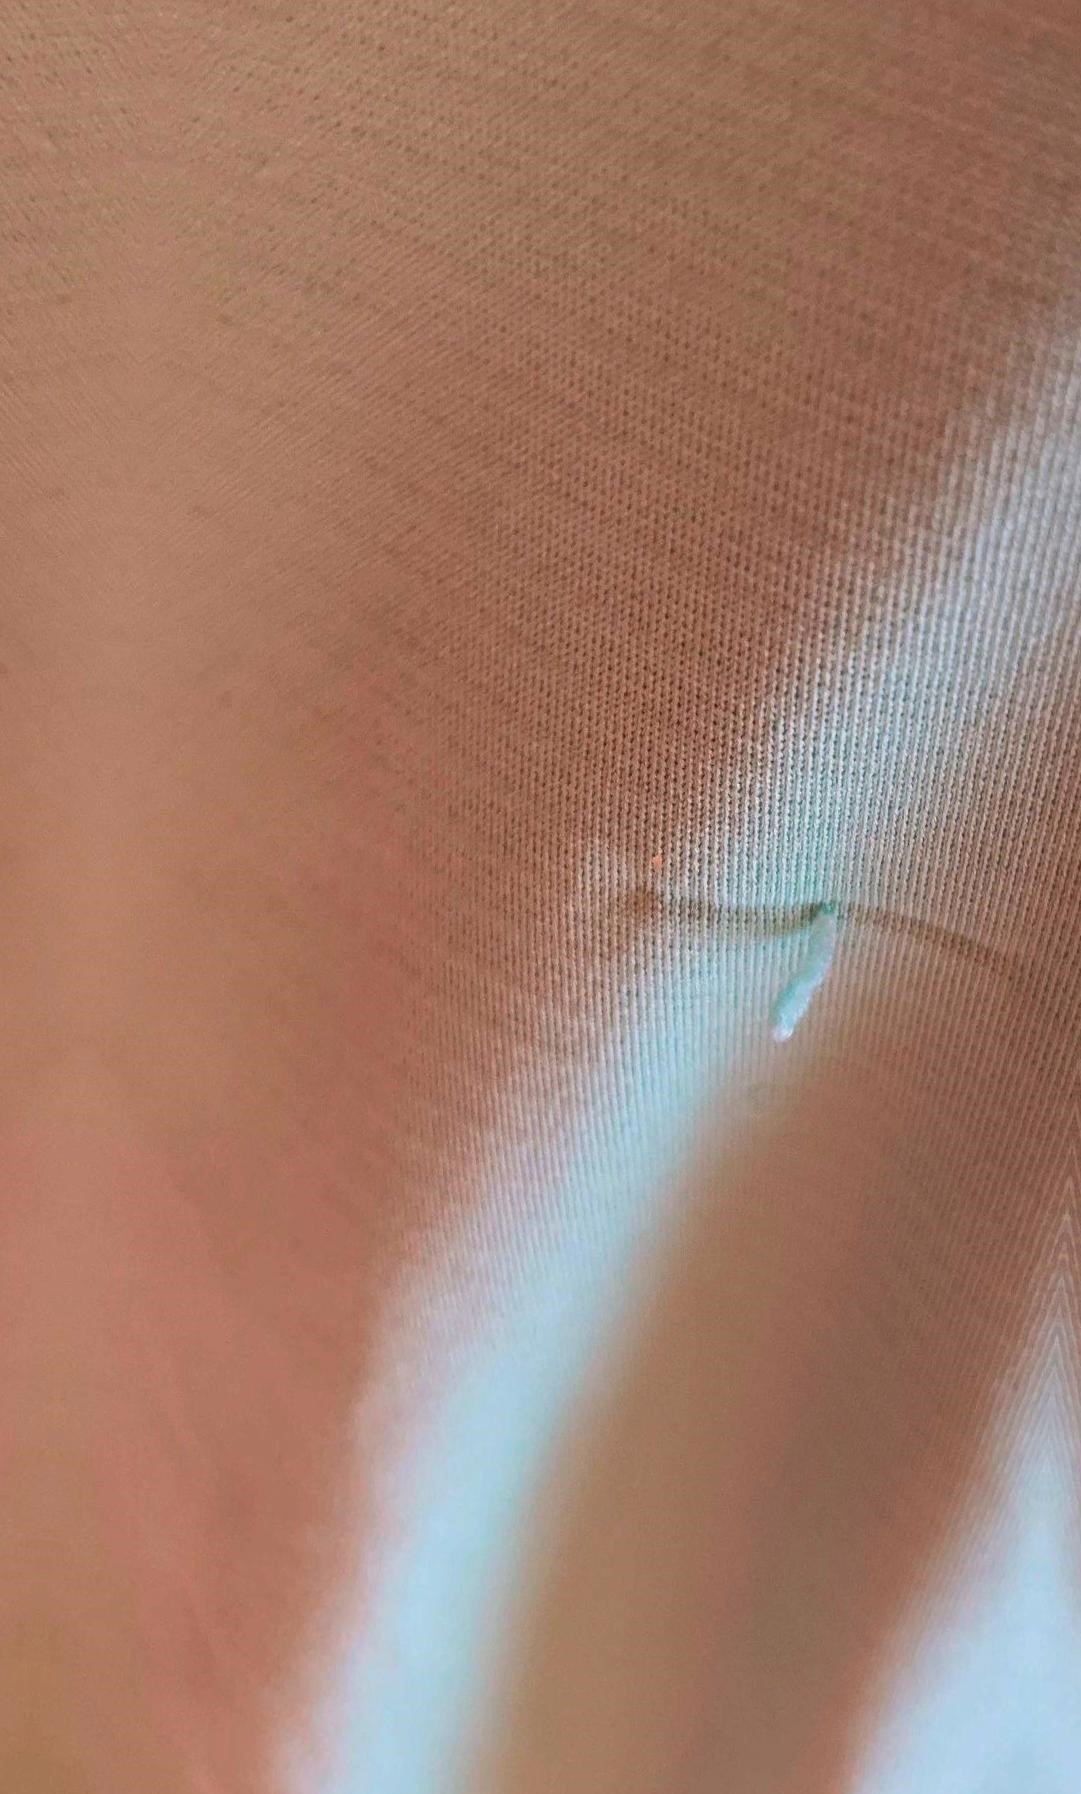snag: (713, 832, 902, 1082)
